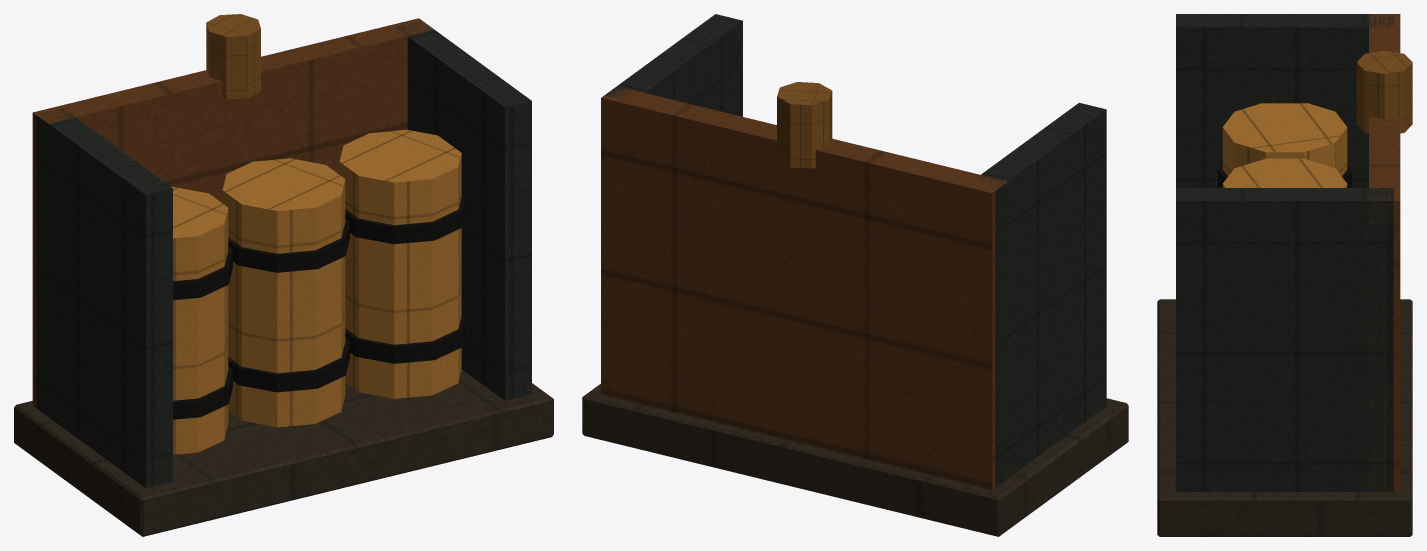
The model's file is fuel-rack.e4.glb.
The picture shows the model from 3 angles, left to right: view 1: azimuth 30°, elevation 25°; view 2: azimuth 150°, elevation 25°; view 3: azimuth 270°, elevation 25°; orthographic projection. The views are drawn at different scales.
Visible parts, largest first — view 1: FuelRackE4; view 2: FuelRackE4; view 3: FuelRackE4.
Part boxes in pixels (left/top/right/bottom): FuelRackE4: left=14, top=14, right=553, bottom=536; FuelRackE4: left=582, top=14, right=1128, bottom=536; FuelRackE4: left=1157, top=14, right=1412, bottom=536.
Size of the model in its own units: 1.52 by 1.33 by 0.82.
Materials: 1 (1 with a texture image).
